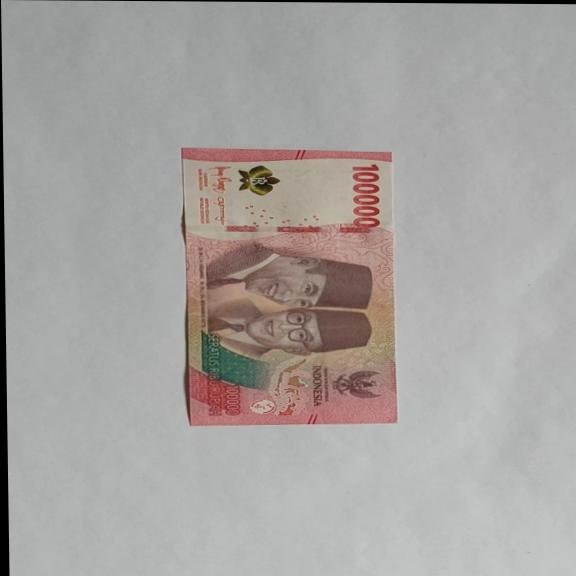Kertas: (180, 148, 399, 428), (348, 163, 383, 229)
